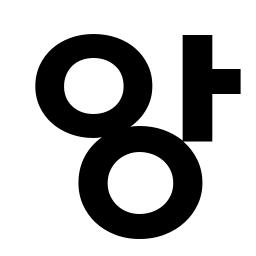Gaji: (172, 57, 230, 111)
